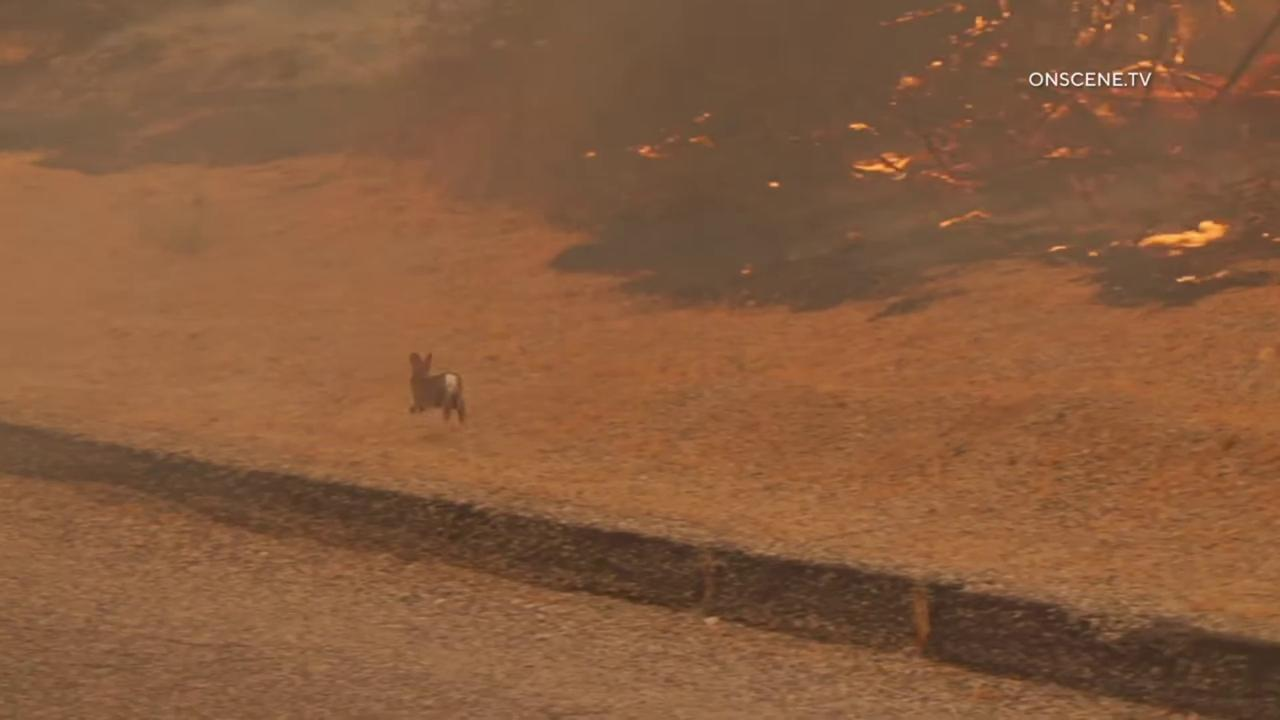fire: (1030, 57, 1236, 128), (1054, 2, 1241, 63), (1129, 214, 1232, 260), (878, 0, 966, 31), (848, 146, 916, 179), (967, 0, 1016, 42), (1032, 143, 1111, 169), (920, 166, 987, 190), (938, 207, 995, 234), (622, 134, 670, 161), (1175, 267, 1230, 289), (978, 41, 1012, 73), (892, 71, 924, 103), (845, 120, 880, 138), (688, 134, 716, 150), (1048, 243, 1068, 256), (765, 178, 783, 192), (926, 58, 945, 69), (1088, 250, 1101, 258)
smoke: (0, 0, 1280, 268)
